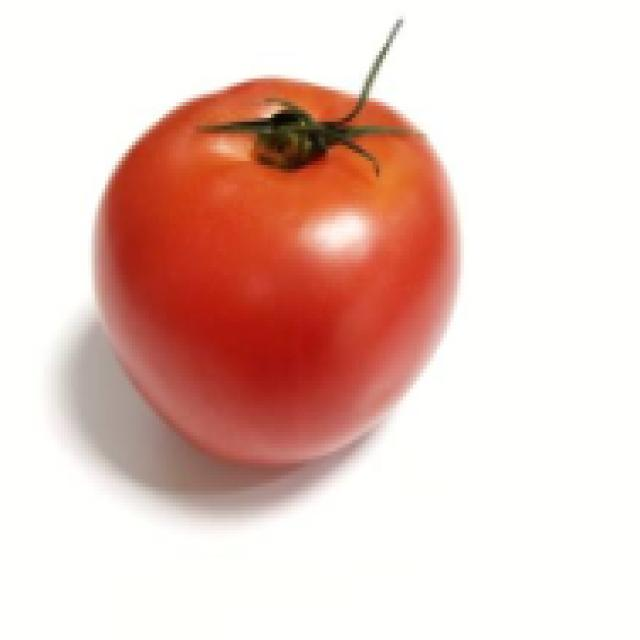Tomato: (84, 81, 465, 484)
